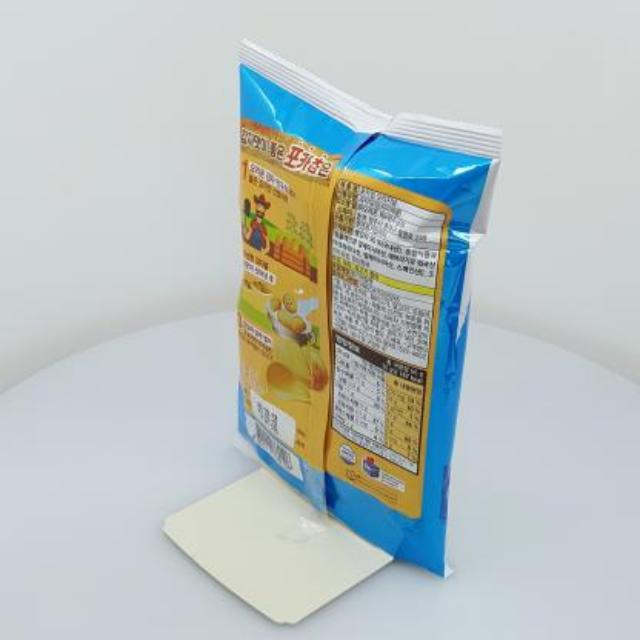snack_bag: (202, 24, 522, 608)
